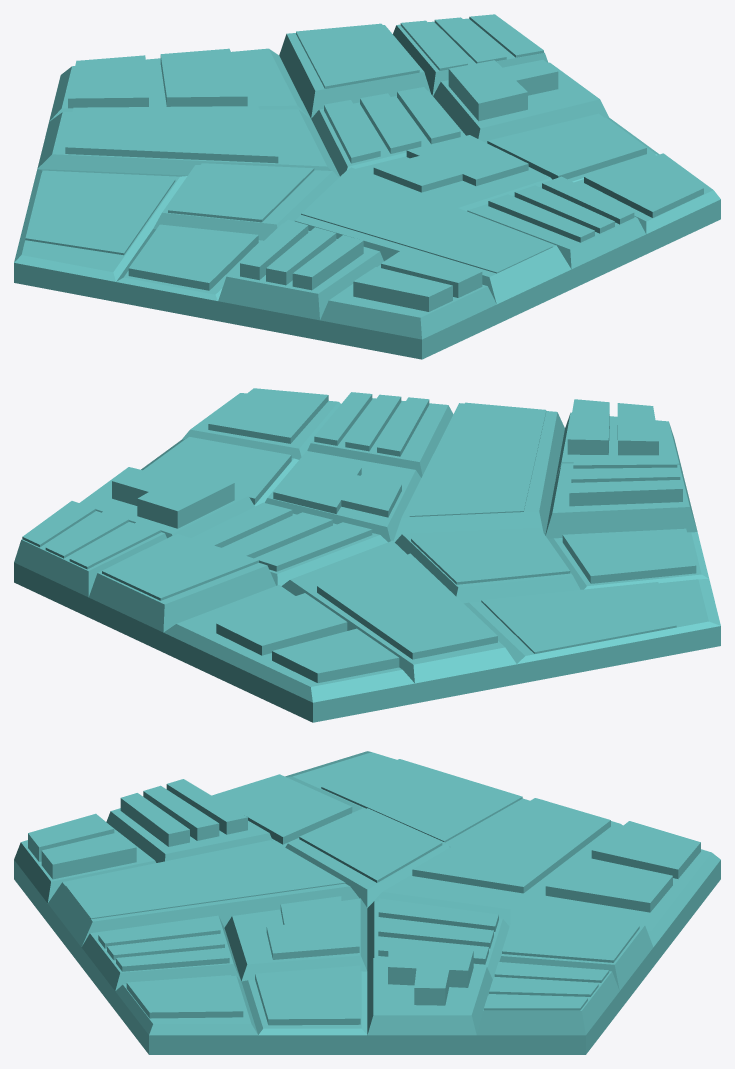
The model's file is DysonSpherePent02.FBX.
The picture shows the model from 3 angles, top to bottom: view 1: azimuth 30°, elevation 25°; view 2: azimuth 150°, elevation 25°; view 3: azimuth 270°, elevation 25°; orthographic projection. The views are drawn at different scales.
Visible parts, largest first — view 1: Pentagon02; view 2: Pentagon02; view 3: Pentagon02.
Boxes of the visible parts, left/top/right/bottom form: Pentagon02: left=14, top=14, right=720, bottom=359; Pentagon02: left=14, top=388, right=720, bottom=722; Pentagon02: left=14, top=751, right=720, bottom=1054.
Size of the model in its own units: 31.05 by 2.8 by 32.65.
